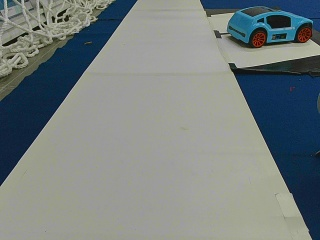car: (227, 7, 313, 47)
